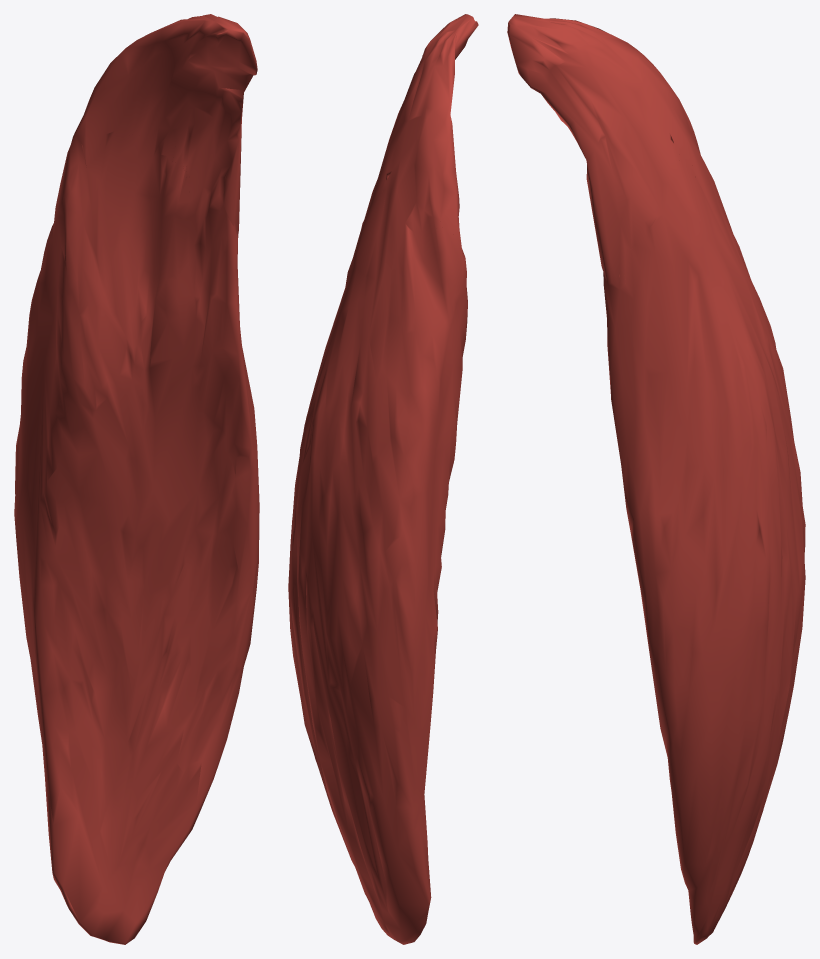
The model's file is musculos-lateral-head-of-gastrocnemius-l.glb.
3 renders of one model, left to right at view 1: azimuth 30°, elevation 25°; view 2: azimuth 150°, elevation 25°; view 3: azimuth 270°, elevation 25°, orthographic. The views are drawn at different scales.
Parts seen in each view (by area): view 1: Lateral head of gastrocnemius.l; view 2: Lateral head of gastrocnemius.l; view 3: Lateral head of gastrocnemius.l.
Part boxes in pixels (x1=…): Lateral head of gastrocnemius.l: x1=14, y1=14, x2=259, y2=944; Lateral head of gastrocnemius.l: x1=288, y1=14, x2=478, y2=944; Lateral head of gastrocnemius.l: x1=507, y1=14, x2=805, y2=944.
Bounding box in the file's own units: 0.0541 × 0.2693 × 0.0779.
